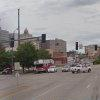Traffic light: (68, 38, 100, 55)
